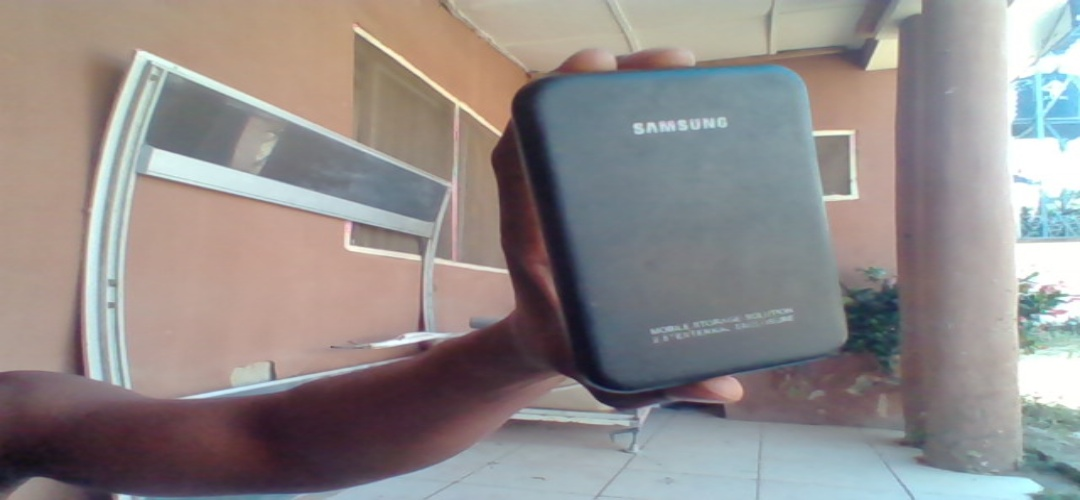hard_disk_case: (527, 78, 848, 388)
